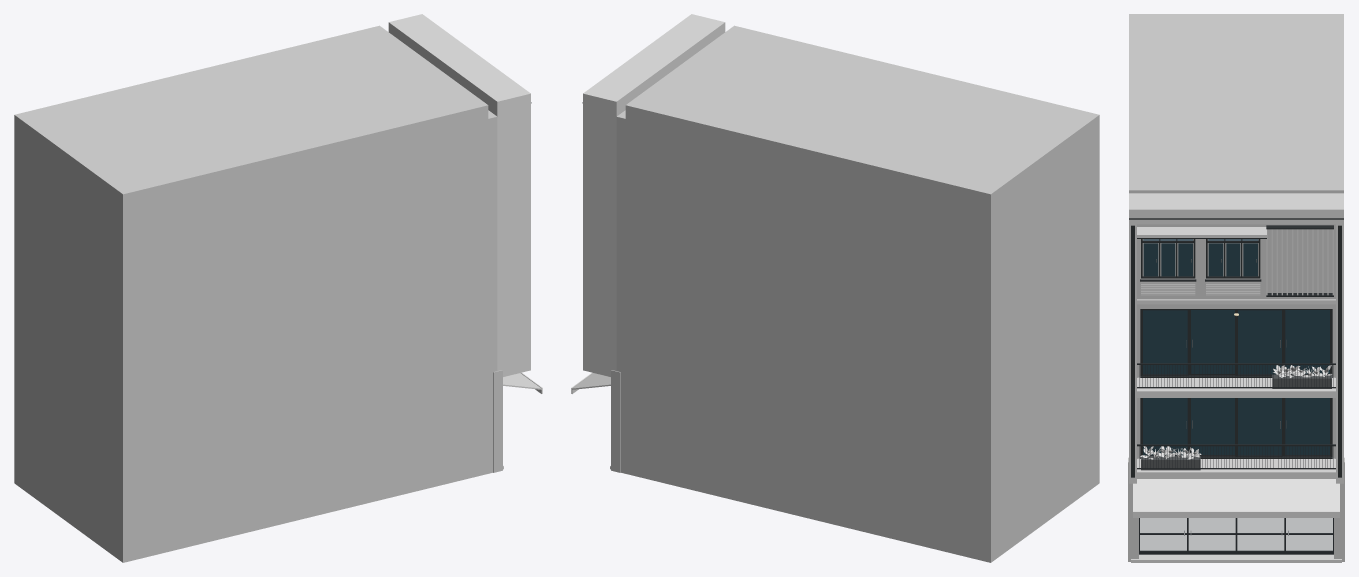
File: OW_Mau_NhaPho_8_0_1.fbx
3 views of the same model, side by side, from view 1: azimuth 30°, elevation 25°; view 2: azimuth 150°, elevation 25°; view 3: azimuth 270°, elevation 25° (orthographic).
Parts seen in each view (by area): view 1: OW_NhaPho_9042; view 2: OW_NhaPho_9042; view 3: OW_NhaPho_9042, OW_MatTienKinh.
Boxes of the visible parts, box(x1,y1,x2,y2) form: OW_NhaPho_9042: box(14, 14, 542, 562); OW_NhaPho_9042: box(571, 14, 1099, 562); OW_NhaPho_9042: box(1128, 14, 1344, 562); OW_MatTienKinh: box(1139, 518, 1333, 554).
Bounding box in the file's own units: 17.77 × 14.9 × 8.
